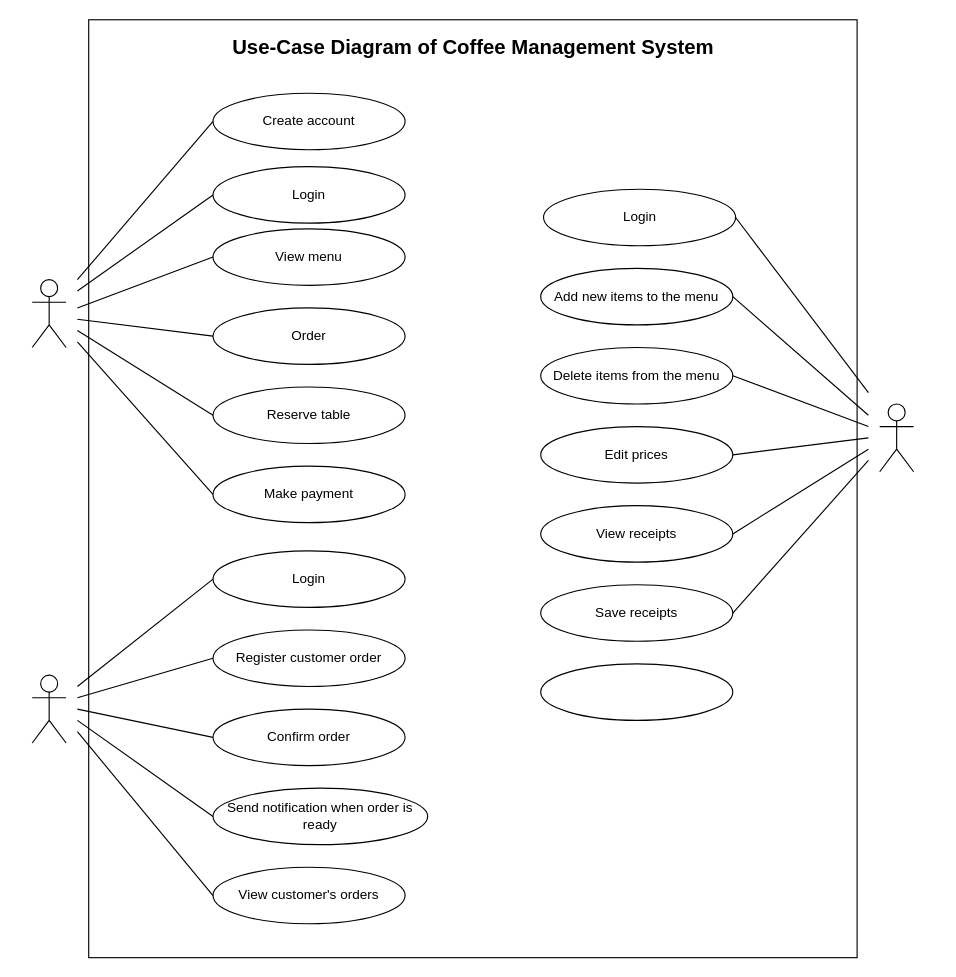
The diagram is 956 pixels wide and 977 high, and some of its shapes have lost their labels. Here are the shapes that lost their labels. From the top down, the centre of each, then its label:
At point 48,313: "Customer".
At point 896,437: "Administrator".
At point 48,708: "Employee".
At point 636,691: "Manage employees".
